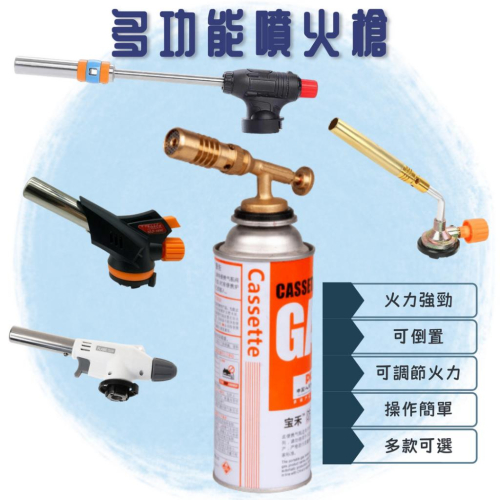gastorch: (166, 123, 320, 497)
